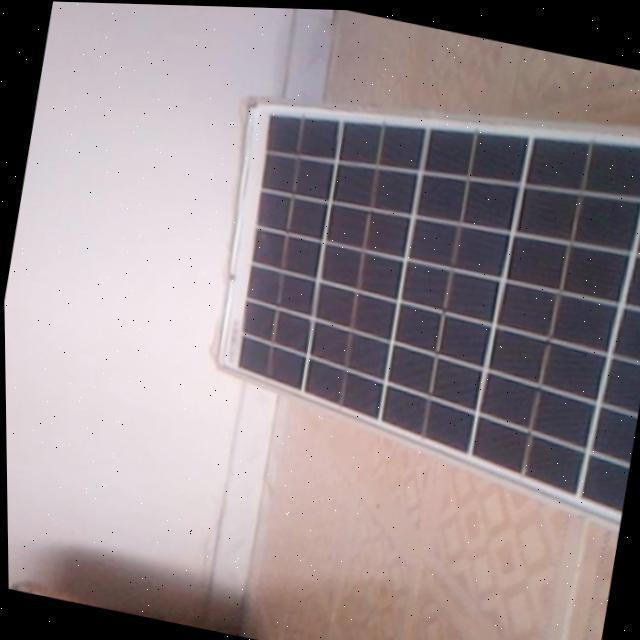Normal Solar Panel: (182, 40, 640, 530)
